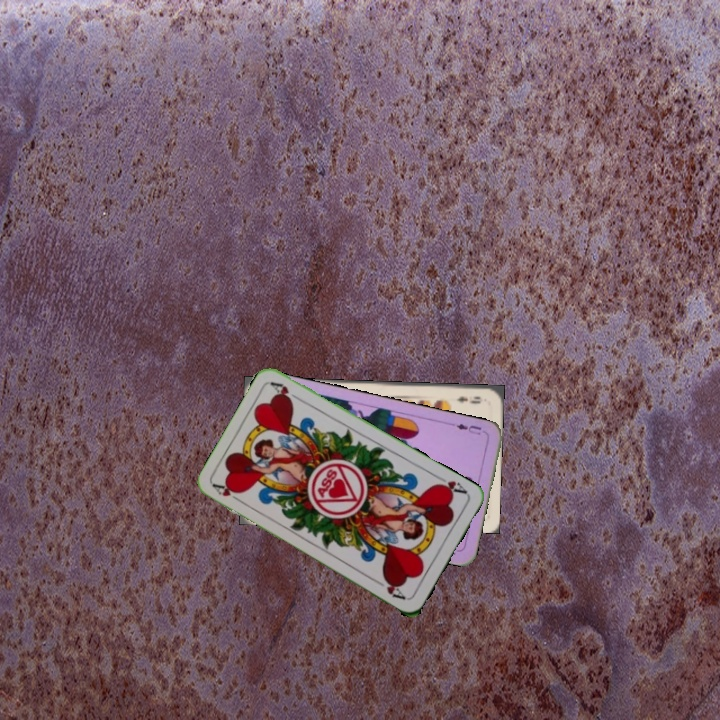E9: (452, 392, 483, 406)
EU: (448, 419, 484, 438)
HA: (430, 472, 470, 497), (209, 480, 246, 506)
